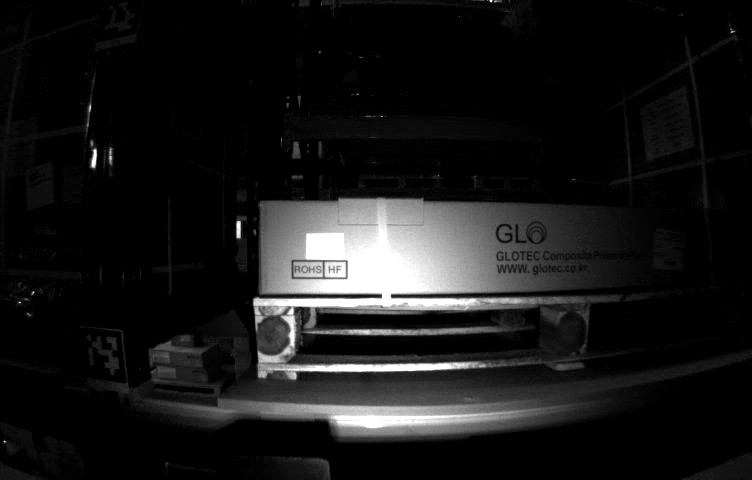True Barcode: (654, 234, 685, 270)
